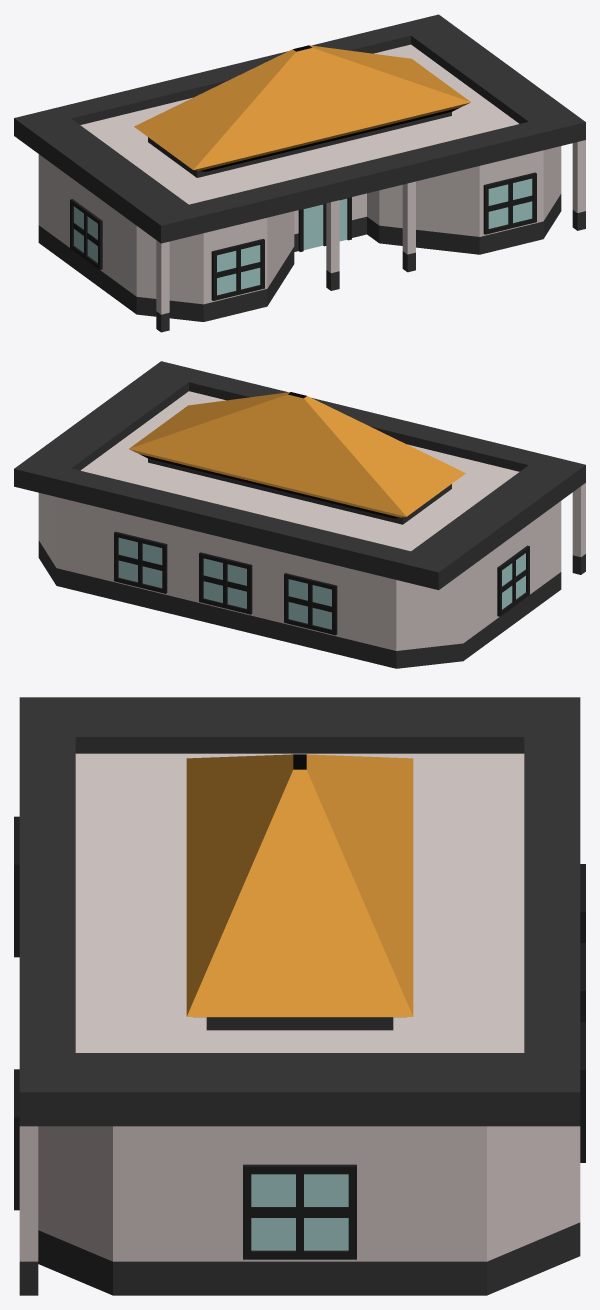
Rendered from Theatre.fbx.
3 renders of one model, top to bottom at view 1: azimuth 30°, elevation 25°; view 2: azimuth 150°, elevation 25°; view 3: azimuth 270°, elevation 25°, orthographic. The views are drawn at different scales.
Visible parts, largest first — view 1: mergedBlocks; view 2: mergedBlocks; view 3: mergedBlocks.
Boxes of the visible parts, x1=… form: mergedBlocks: x1=14, y1=14, x2=585, y2=332; mergedBlocks: x1=14, y1=361, x2=585, y2=668; mergedBlocks: x1=14, y1=697, x2=585, y2=1295.
Bounding box in the file's own units: 25.3 × 9.99 × 15.3.
